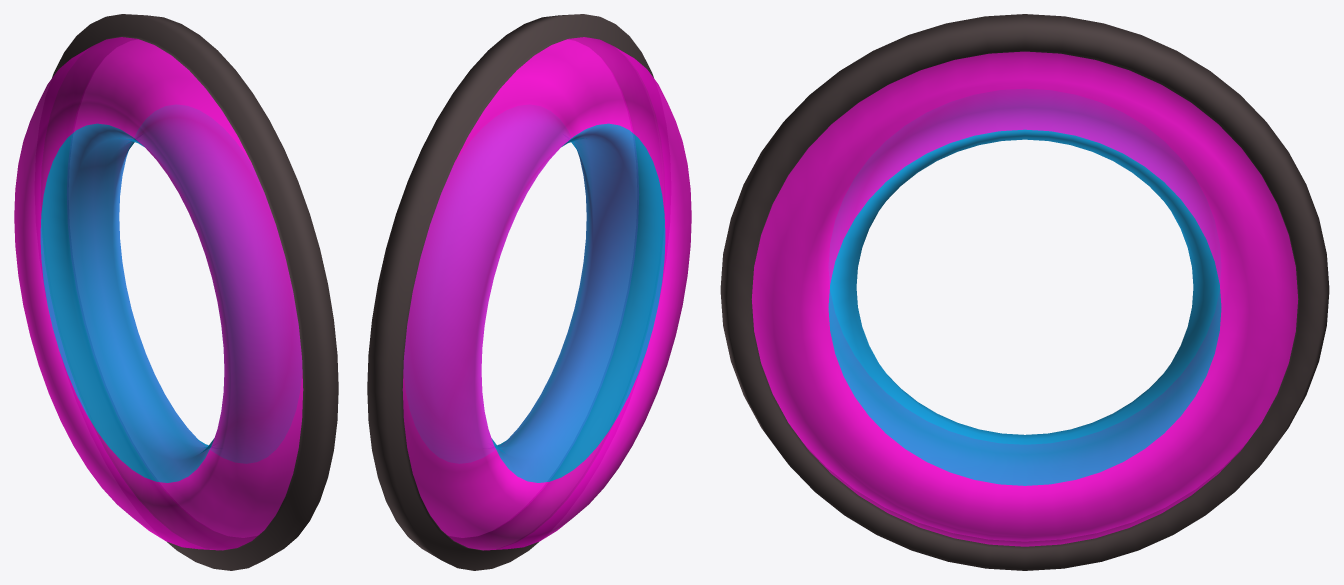
The model's file is Shape with hole.fbx.
3 views of the same model, side by side, from view 1: azimuth 30°, elevation 25°; view 2: azimuth 150°, elevation 25°; view 3: azimuth 270°, elevation 25° (orthographic). The views are drawn at different scales.
Parts seen in each view (by area): view 1: Torus; view 2: Torus; view 3: Torus.
Boxes of the visible parts, x1,y1,x2,y2 form: Torus: (14, 14, 338, 570); Torus: (367, 14, 691, 570); Torus: (720, 14, 1329, 570).
Size of the model in its own units: 272 by 272 by 50.16.
